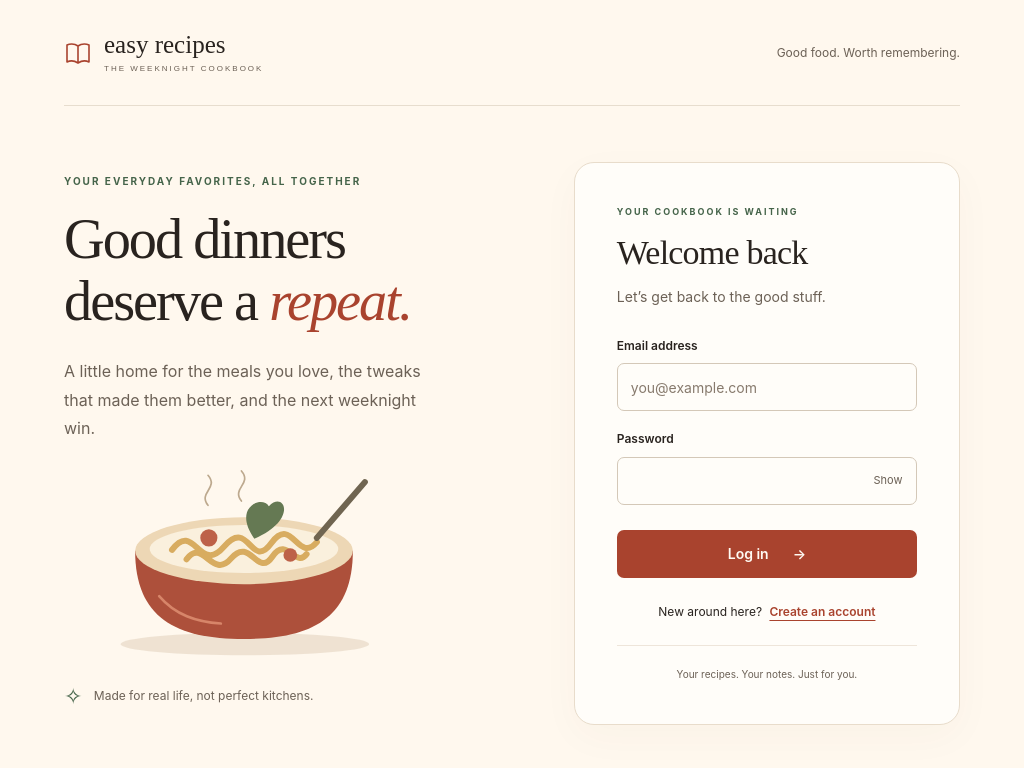
Test: account flows › shows a friendly error for invalid credentials without echoing server details
In the field labelled "Email address": (767, 387) [617,363,917,411], type "a@example.com"
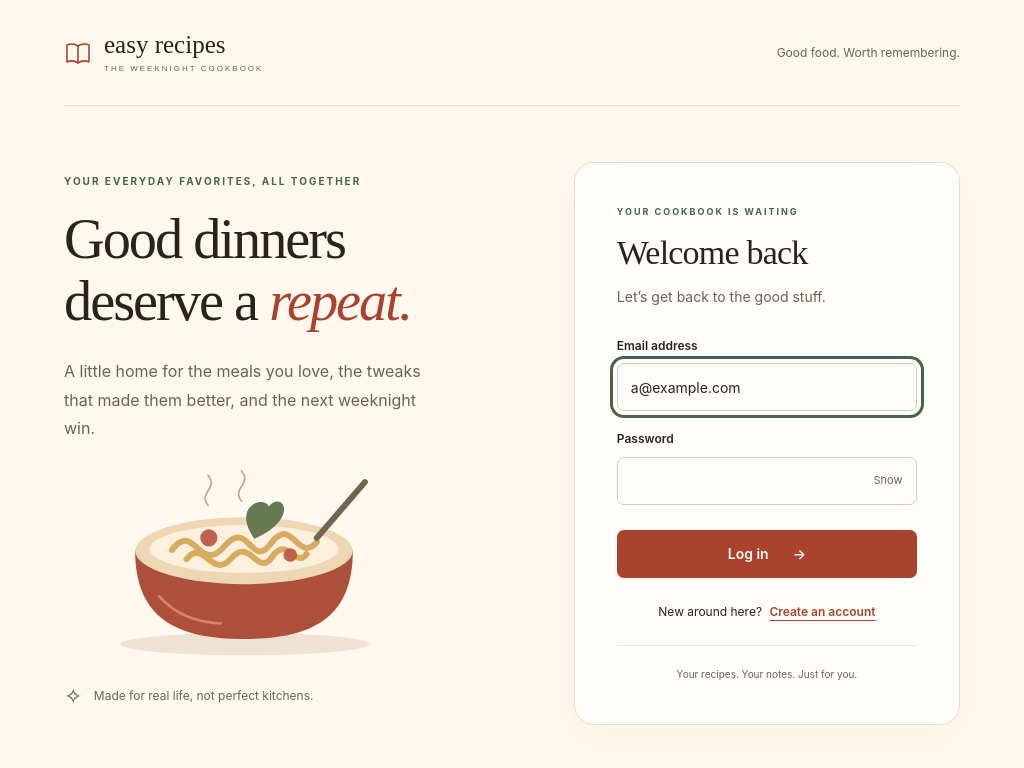
In the password field labelled "Password": (767, 480) [617,456,917,504], type "password123"
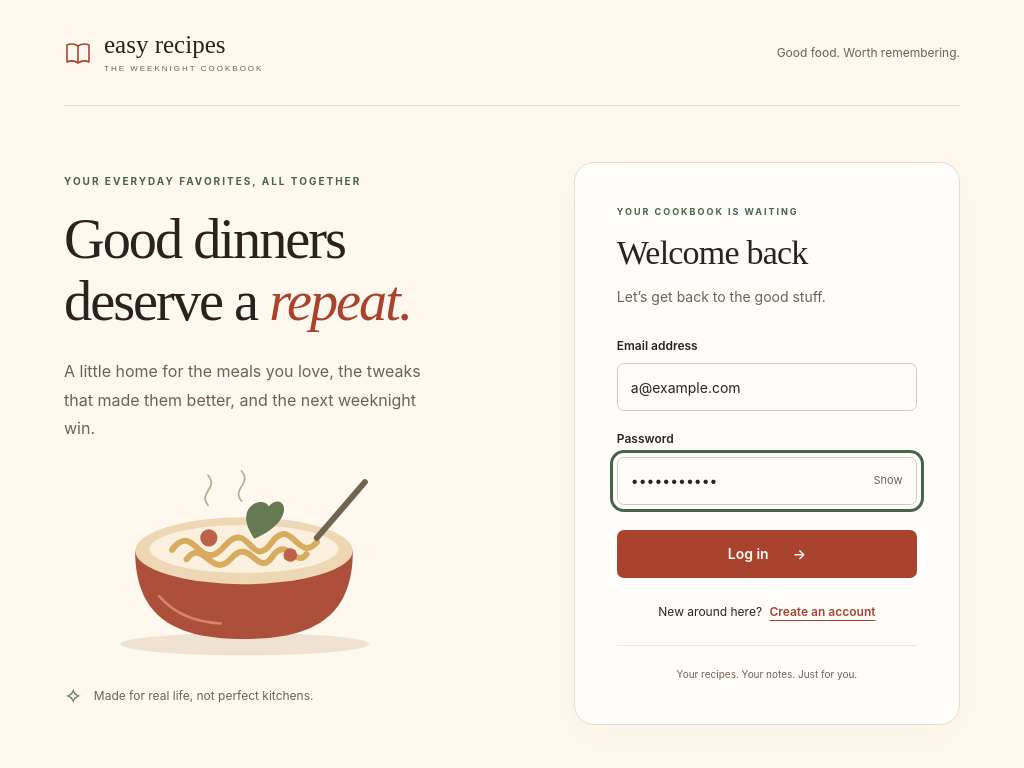
Click the button "Log in →": (767, 554) [617,530,917,578]
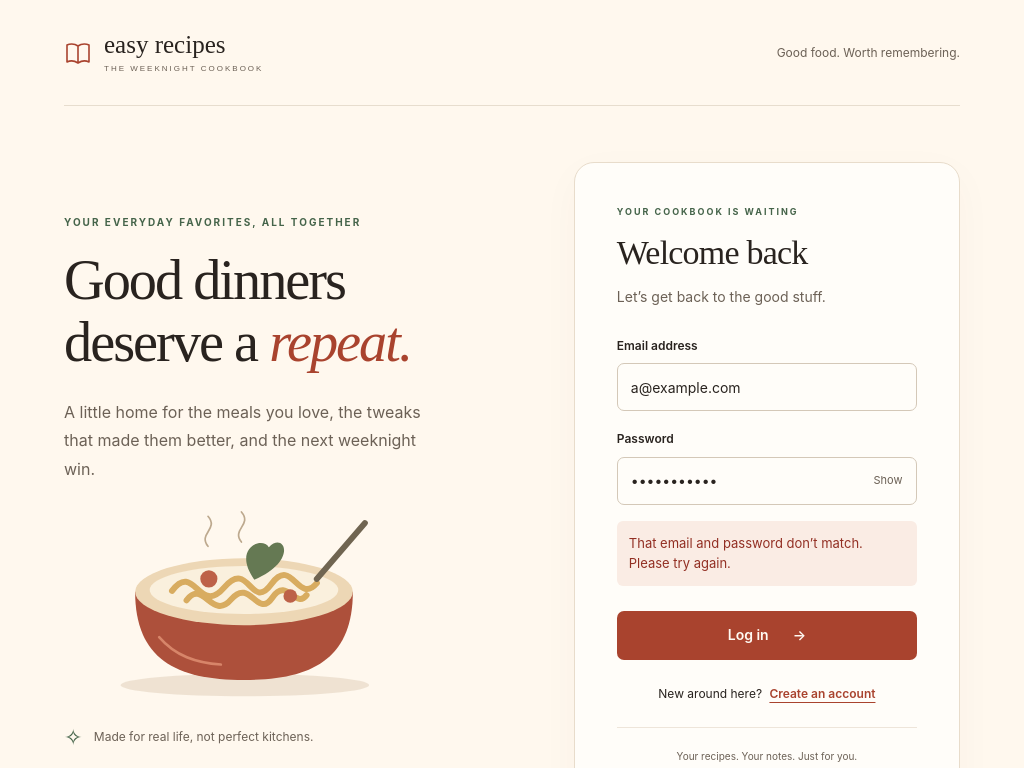
Expected: the message shows "That email and password don’t match.", [629,534,863,571]
